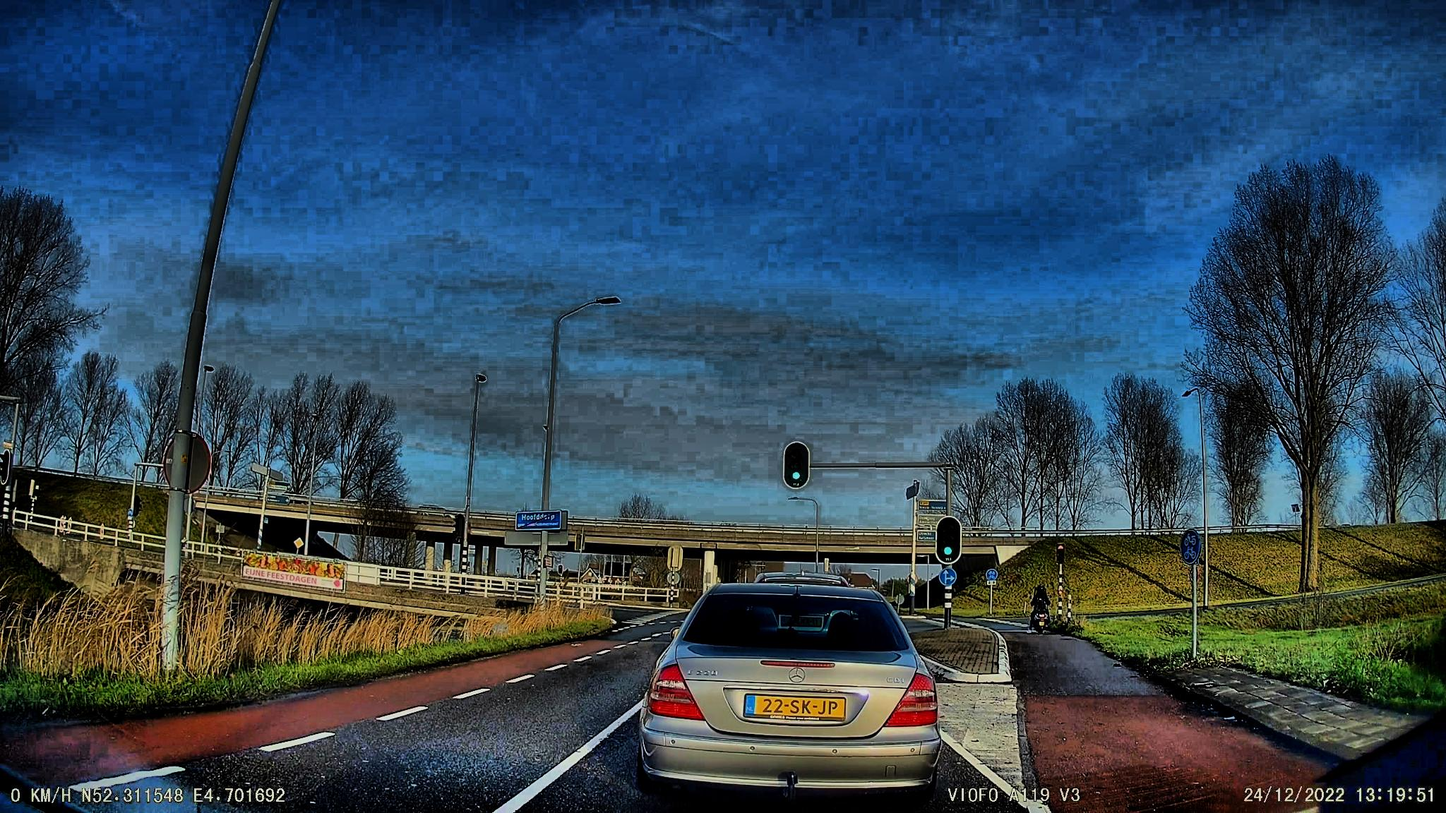Roads: (0, 639, 780, 813)
